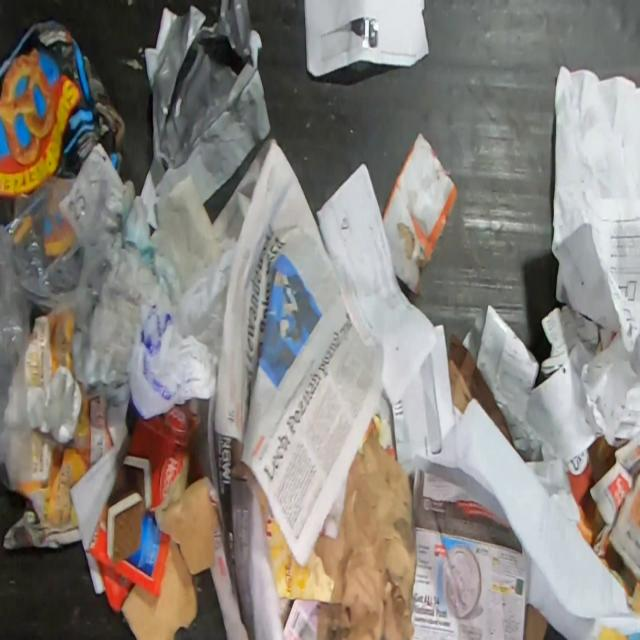cardboard: (84, 403, 222, 640), (0, 17, 126, 199), (382, 131, 458, 295)
soft_plastic: (70, 177, 238, 386), (0, 174, 108, 483), (139, 0, 271, 230), (126, 298, 216, 420)
